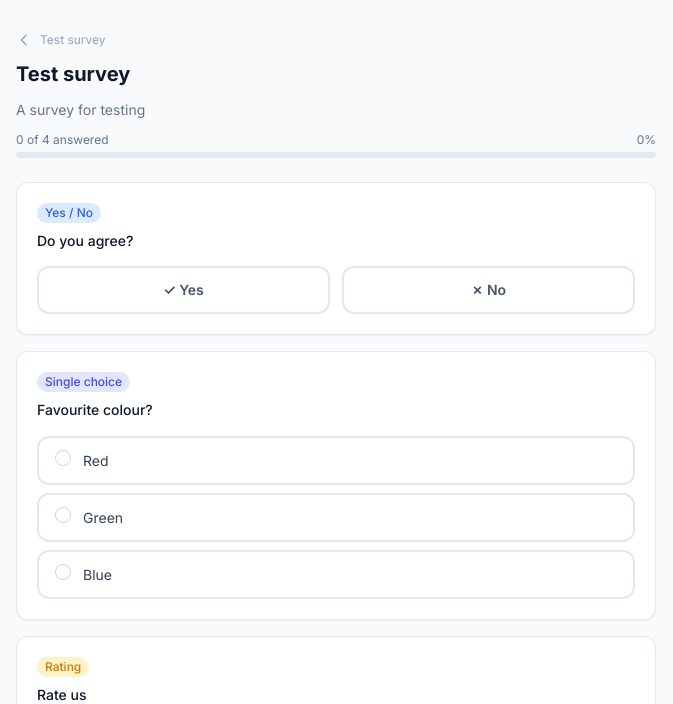
FillPage — submit › submit button enabled when all required active questions answered
Check: the heading "Test survey" is shown, box [16, 62, 130, 86]
Click the button "✓ Yes": {"x": 184, "y": 290} [37, 266, 330, 314]
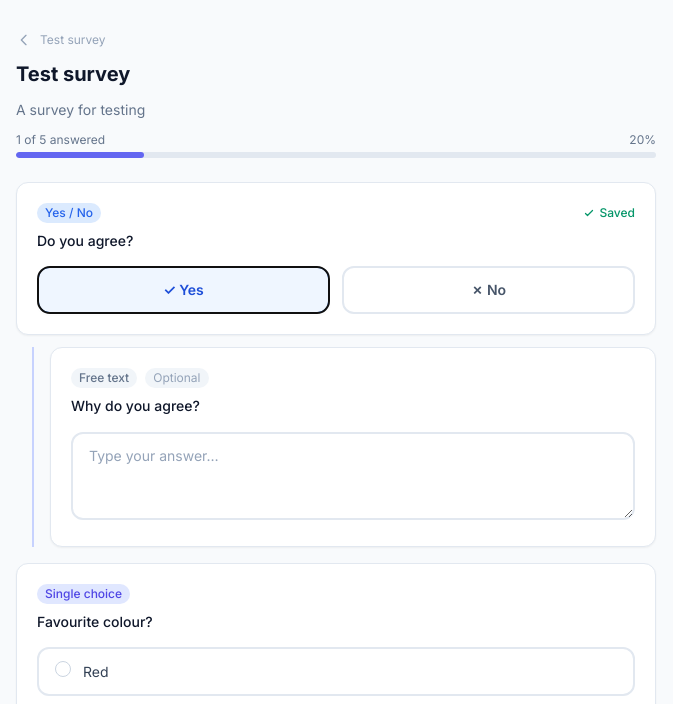
Click the button "Red": {"x": 63, "y": 669} [37, 647, 635, 696]
(page scrolled)
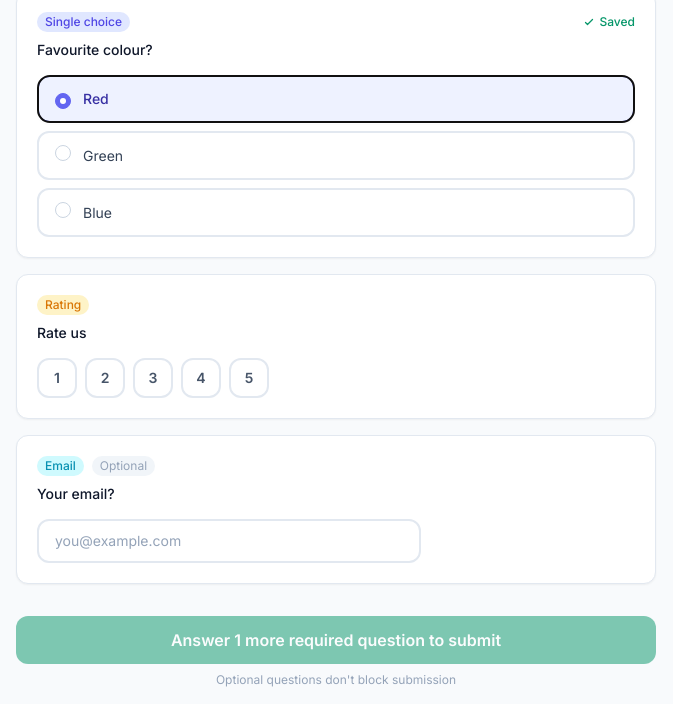
Click the button "3": {"x": 153, "y": 378} [133, 358, 173, 398]
(page scrolled)
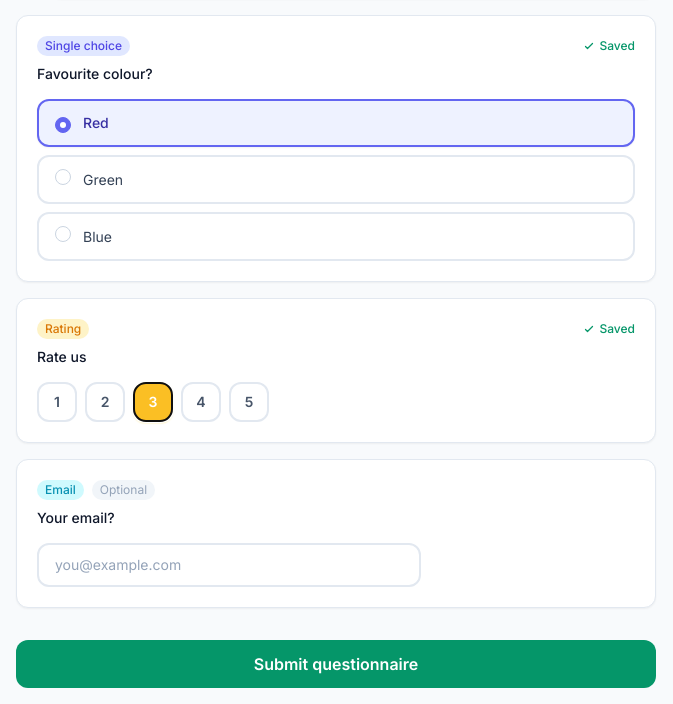
Check: the button "Submit questionnaire" is enabled, box [16, 640, 656, 688]
